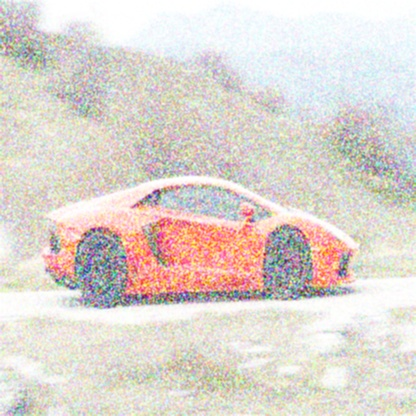Vehicle: (38, 172, 363, 314)
